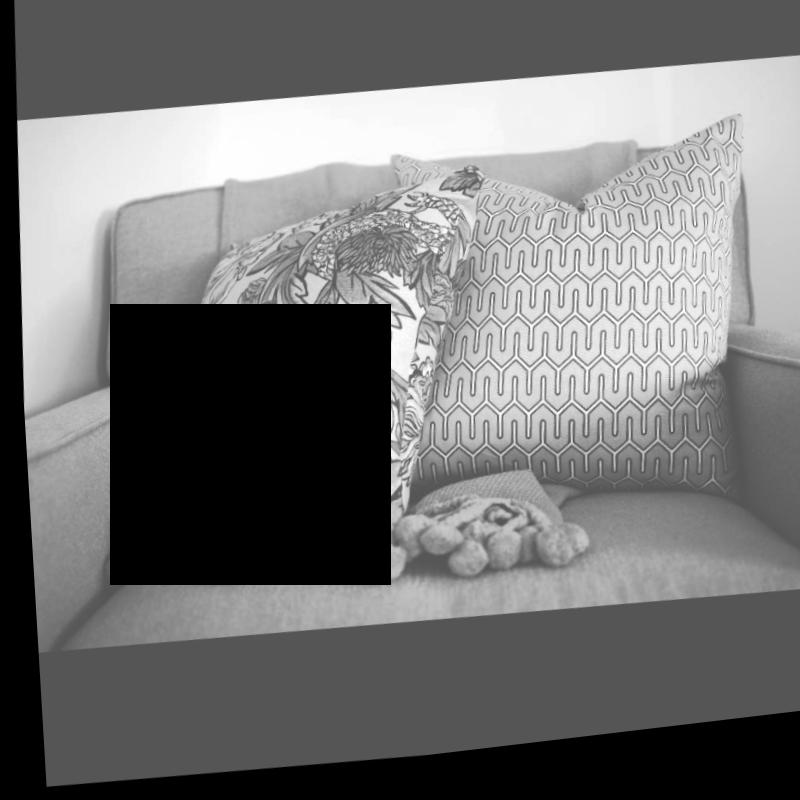pillow: (379, 123, 756, 546), (121, 160, 491, 548)
